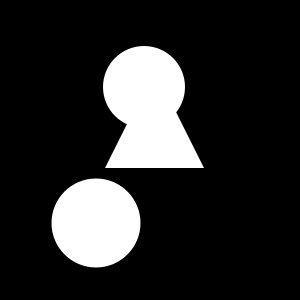rectangle: (52, 178, 140, 268), (103, 46, 185, 128)
triangle: (105, 69, 204, 168)
